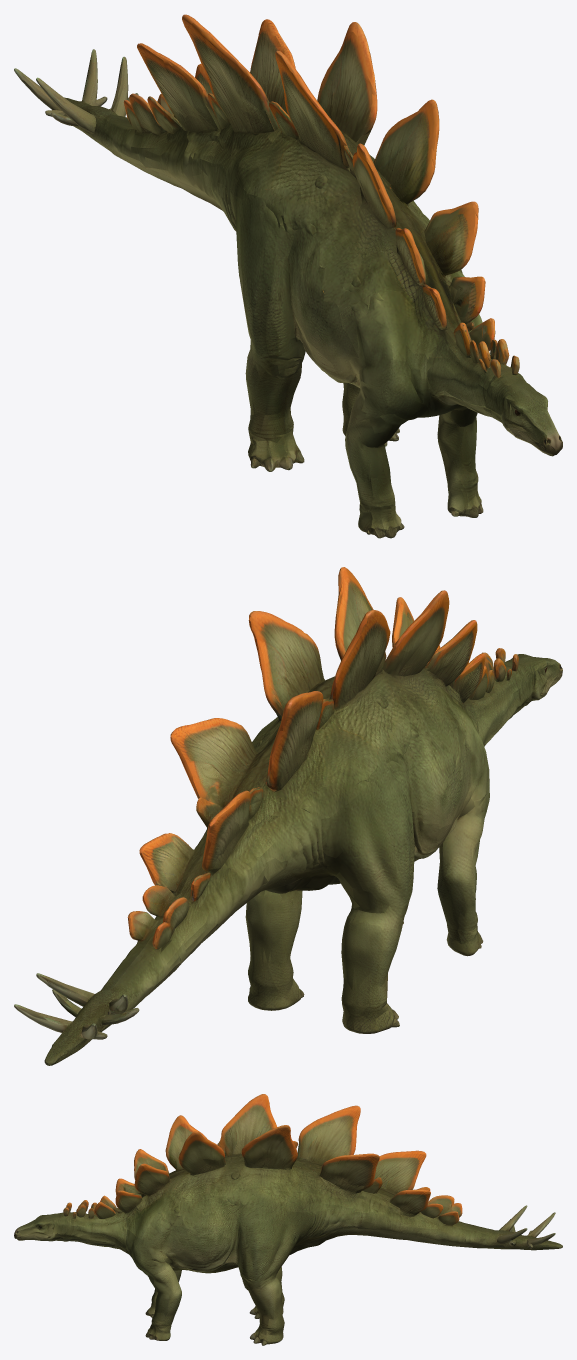
File: stegosaurus_i2m_v1.glb
3 renders of one model, top to bottom at view 1: azimuth 30°, elevation 25°; view 2: azimuth 150°, elevation 25°; view 3: azimuth 270°, elevation 25°, orthographic. The views are drawn at different scales.
Visible parts, largest first — view 1: Mesh_0; view 2: Mesh_0; view 3: Mesh_0.
Boxes of the visible parts, x1,y1,x2,y2 form: Mesh_0: (14,14,562,538); Mesh_0: (14,567,562,1065); Mesh_0: (14,1094,562,1345).
Bounding box in the file's own units: 0.3373 × 0.8458 × 1.9.
Materials: 1 (1 with a texture image).
